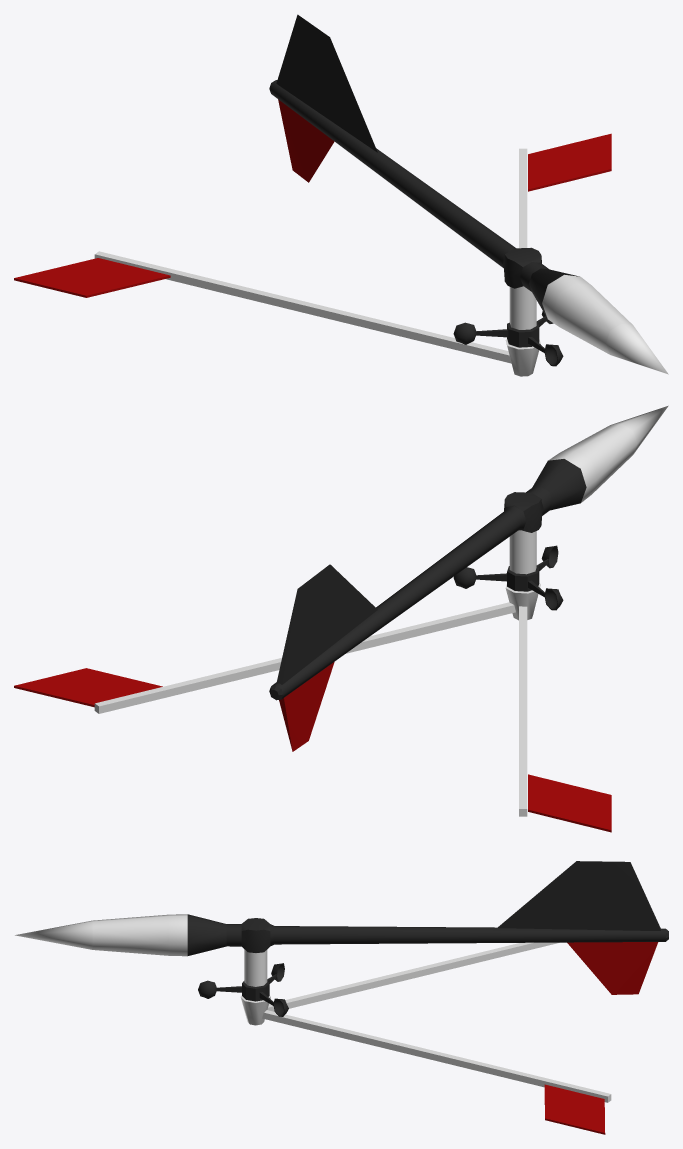
The model's file is WindIndicator.fbx.
The picture shows the model from 3 angles, top to bottom: view 1: azimuth 30°, elevation 25°; view 2: azimuth 150°, elevation 25°; view 3: azimuth 270°, elevation 25°; orthographic projection. The views are drawn at different scales.
Parts seen in each view (by area): view 1: windDirectionIndicator, noSailIndicator, windSpeedIndicator; view 2: windDirectionIndicator, noSailIndicator, windSpeedIndicator; view 3: windDirectionIndicator, noSailIndicator, windSpeedIndicator.
Boxes of the visible parts, x1,y1,x2,y2 form: windDirectionIndicator: (269,14,668,374); noSailIndicator: (14,133,611,376); windSpeedIndicator: (453,311,563,366); windDirectionIndicator: (269,405,668,751); noSailIndicator: (14,530,611,832); windSpeedIndicator: (453,545,563,610); windDirectionIndicator: (15,861,668,994); noSailIndicator: (240,942,611,1134); windSpeedIndicator: (198,963,288,1016).
Bounding box in the file's own units: 0.0825 × 0.0256 × 0.0943.
